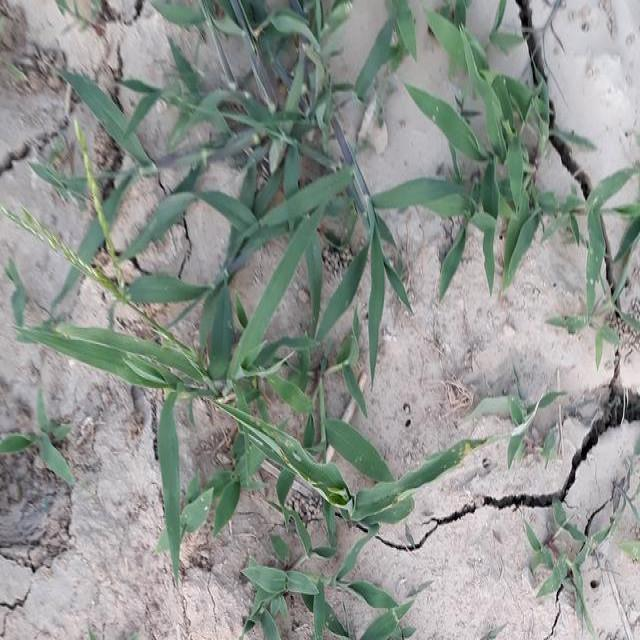weed: (90, 0, 440, 634), (396, 75, 638, 302)
